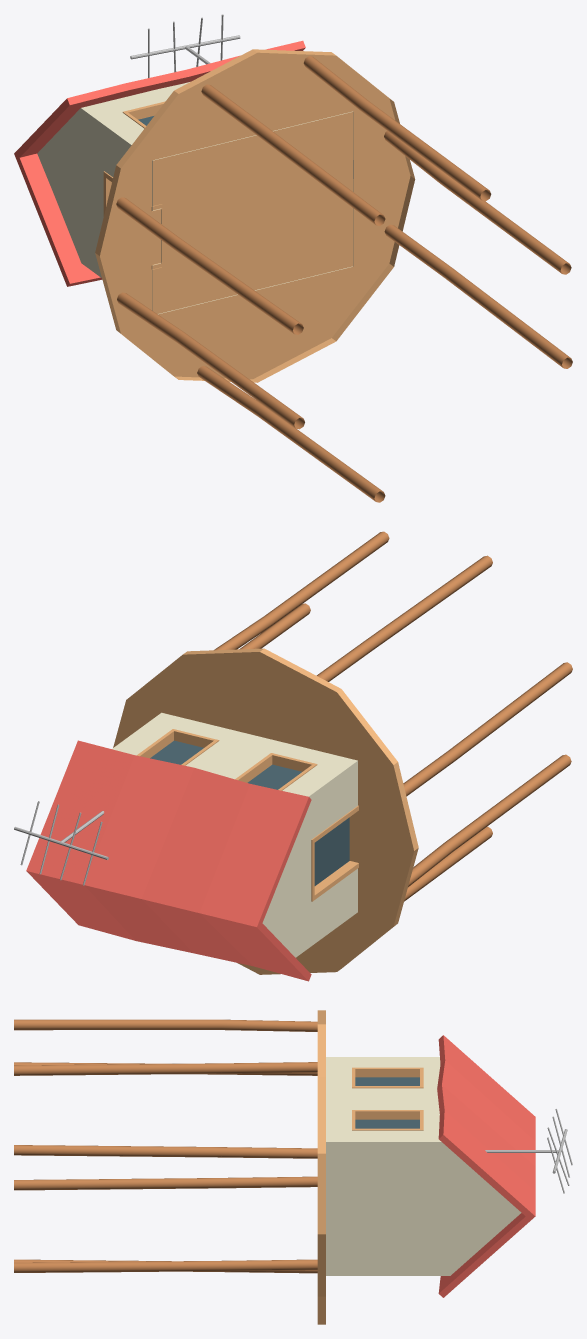
Rendered from Hut_1_circular base.fbx.
The picture shows the model from 3 angles, top to bottom: view 1: azimuth 30°, elevation 25°; view 2: azimuth 150°, elevation 25°; view 3: azimuth 270°, elevation 25°; orthographic projection. The views are drawn at different scales.
Visible parts, largest first — view 1: Circle.009; view 2: Circle.009; view 3: Circle.009.
Part boxes in pixels (bbox=[...]): Circle.009: bbox=[14, 14, 572, 502]; Circle.009: bbox=[14, 531, 572, 981]; Circle.009: bbox=[14, 1010, 572, 1324].
Size of the model in its own units: 310 by 310 by 549.
